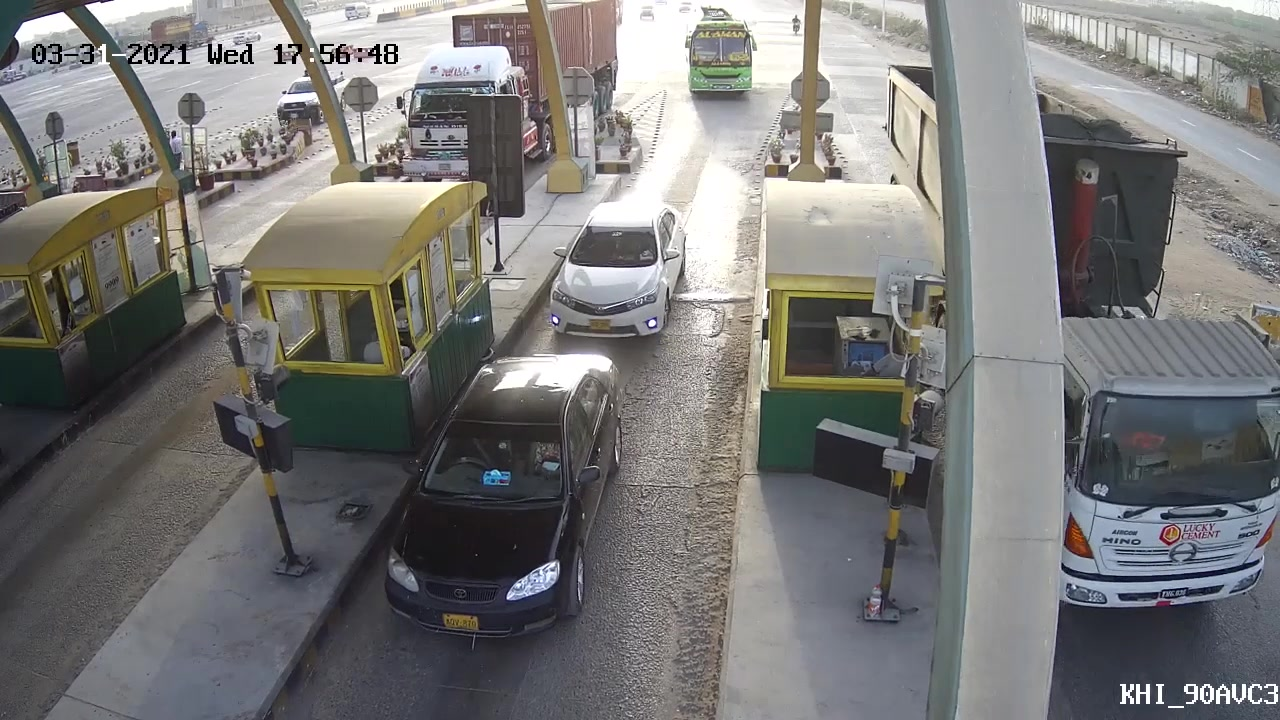F1: (376, 350, 633, 644), (539, 195, 692, 342)
